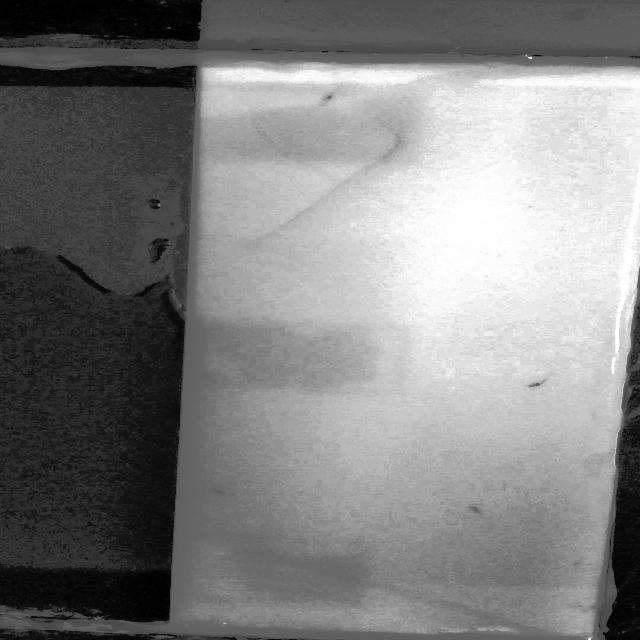shrimp: (525, 368, 550, 392), (315, 88, 342, 104), (205, 482, 232, 498), (463, 504, 491, 517)
